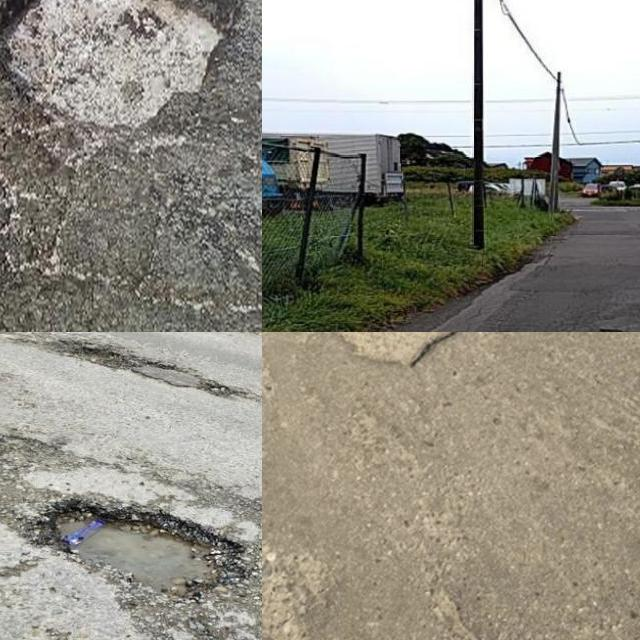Lubang: (0, 0, 259, 124), (50, 501, 245, 605), (338, 332, 462, 362)
